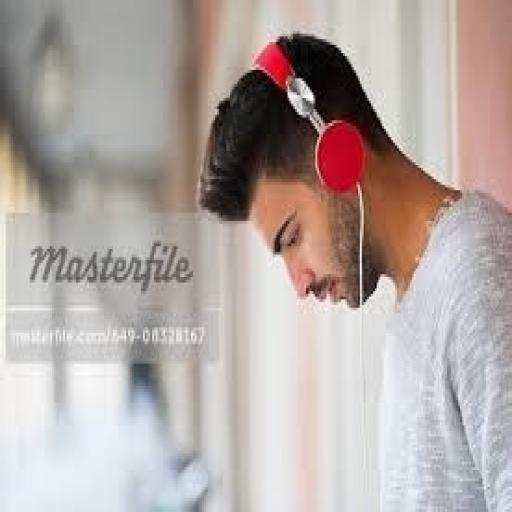listening_to_music: (195, 28, 510, 509)
